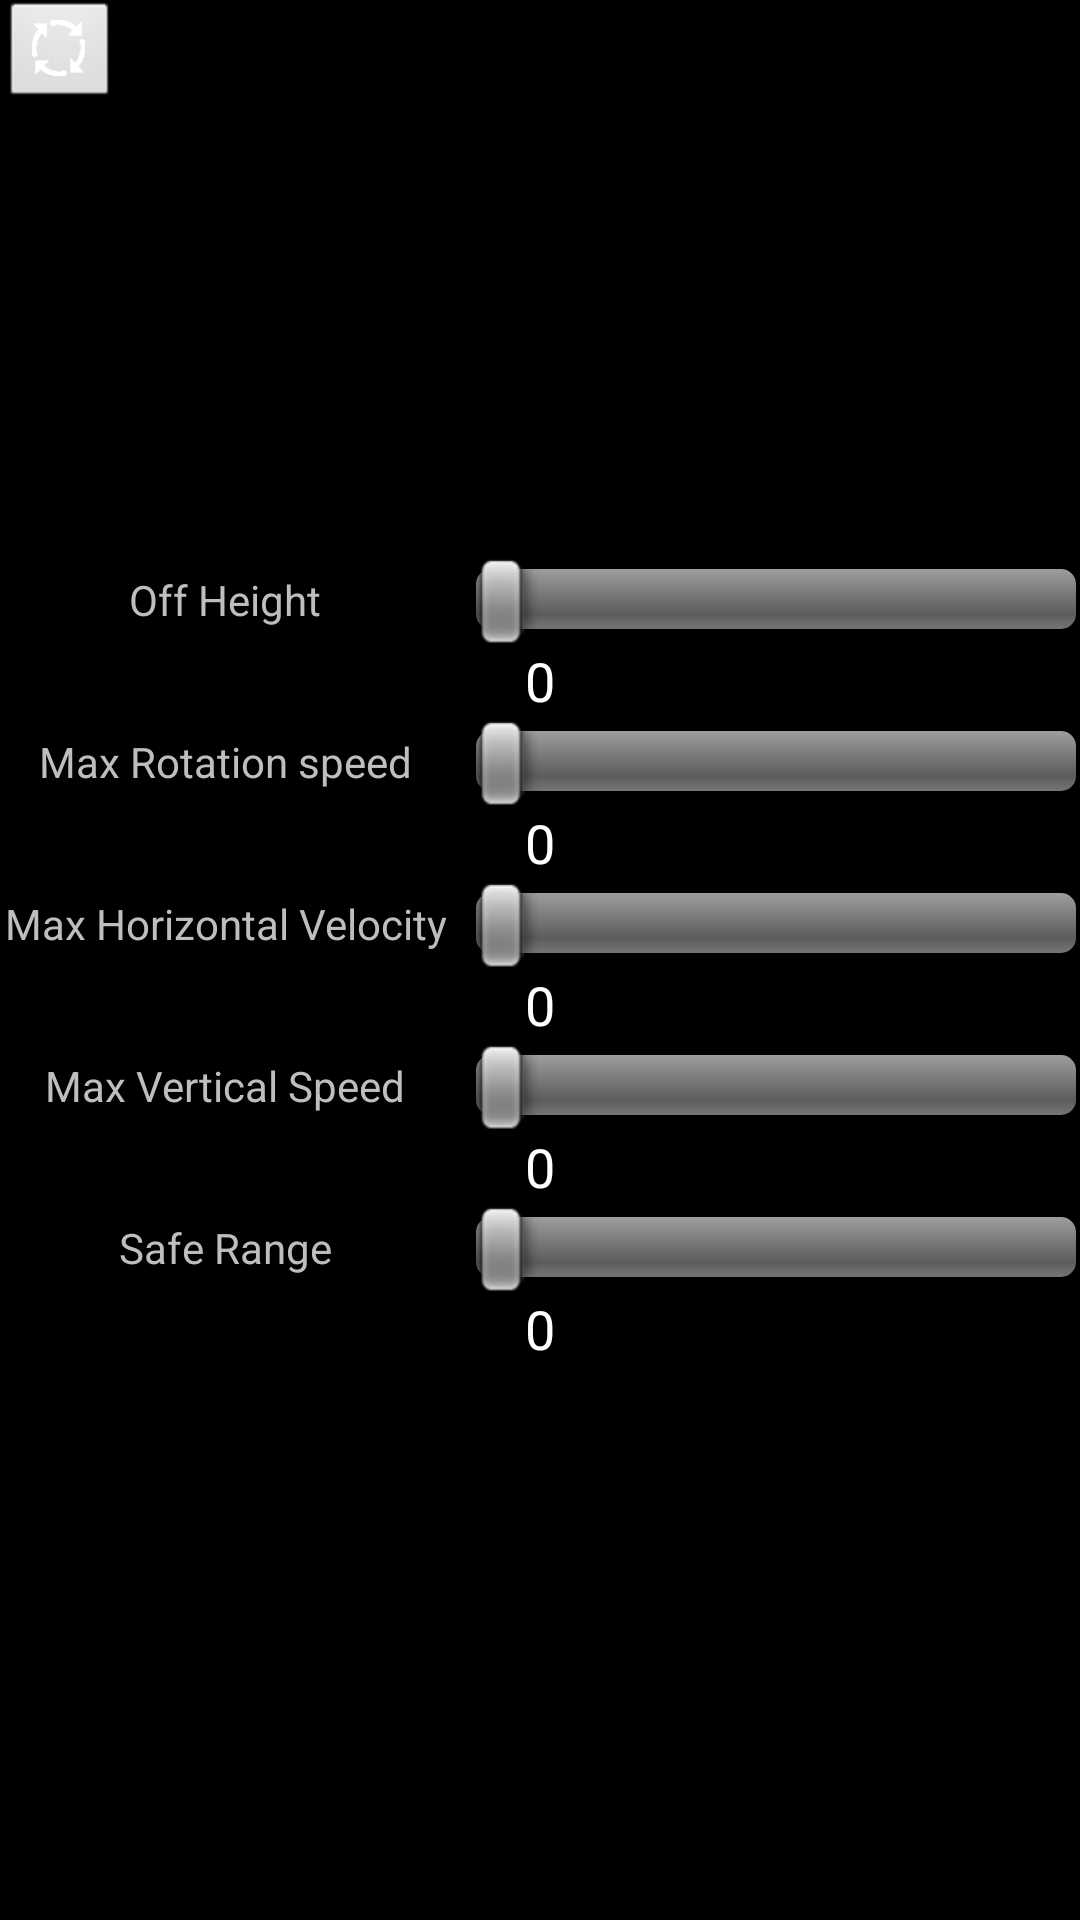

Icon bounding boxes for this 1080w x 1920h phone screenshot, format box(x1, y1, x2, y2):
defaultsetting: box(10, 3, 108, 95)
